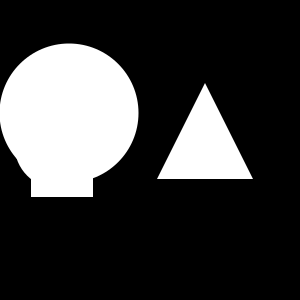circle: (31, 135, 93, 197)
rectangle: (0, 44, 138, 182), (15, 102, 102, 188)
triangle: (157, 83, 253, 179)
